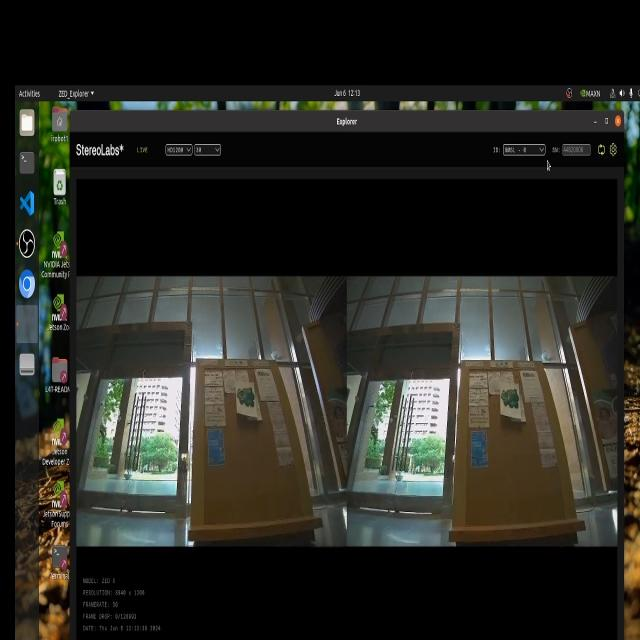green: (233, 386, 263, 423), (506, 390, 519, 424)
